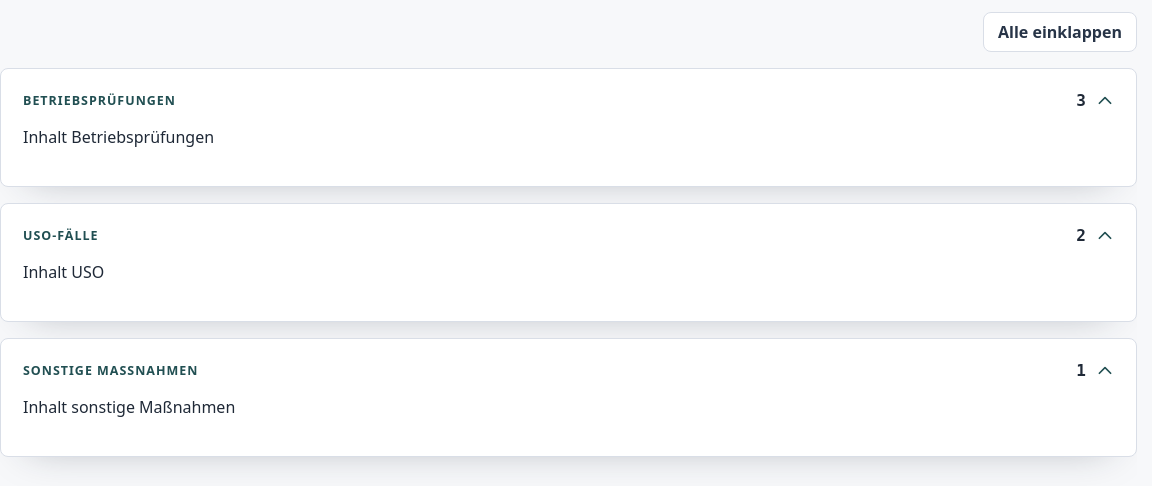
Scenario: CollapsiblePointLists › collapses all lists and expands all lists from closed and mixed states
Click the button "Alle einklappen" at (1060, 32), box 983,12 -> 1137,52
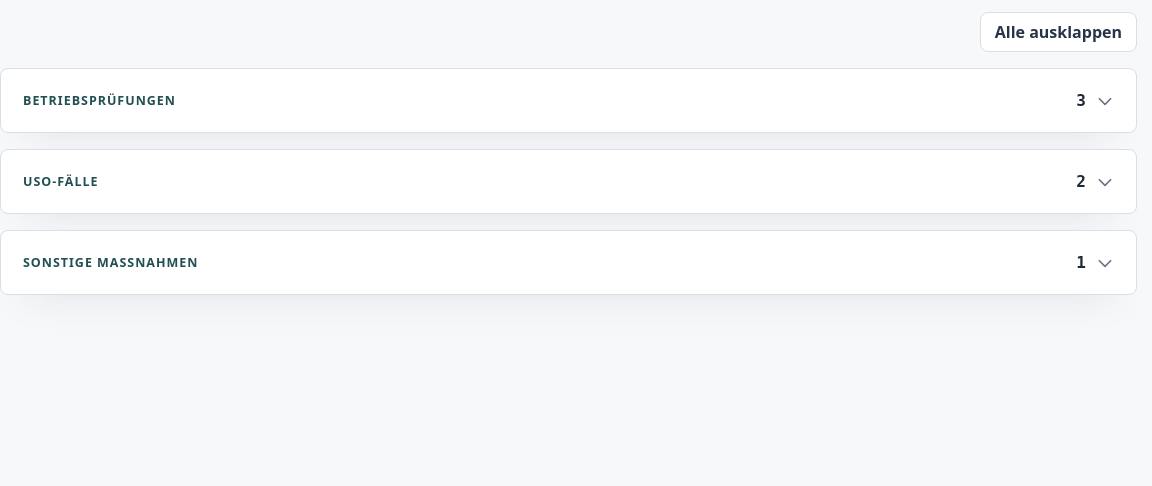
Click the button with aria-label "Betriebsprüfungen ausklappen" at (99, 100), box 23,91 -> 1114,110
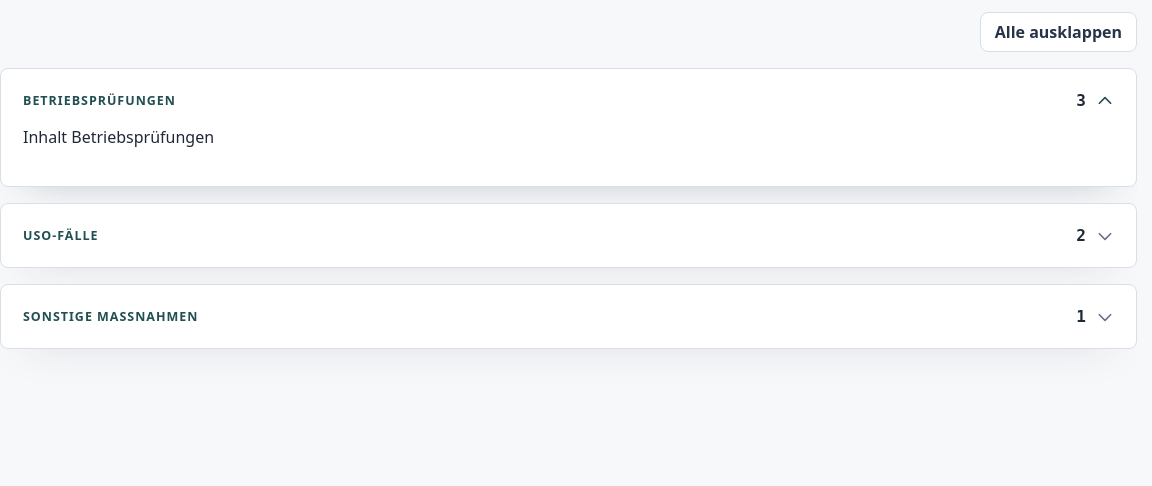
Expected: the button "Alle ausklappen" is shown
Expected: the button with aria-label "USO-Fälle ausklappen" is collapsed, 23,226 -> 1114,245
Expected: the button with aria-label "Betriebsprüfungen einklappen" is expanded, 23,91 -> 1114,110
Click the button "Alle ausklappen" at (1058, 32), box 980,12 -> 1137,52
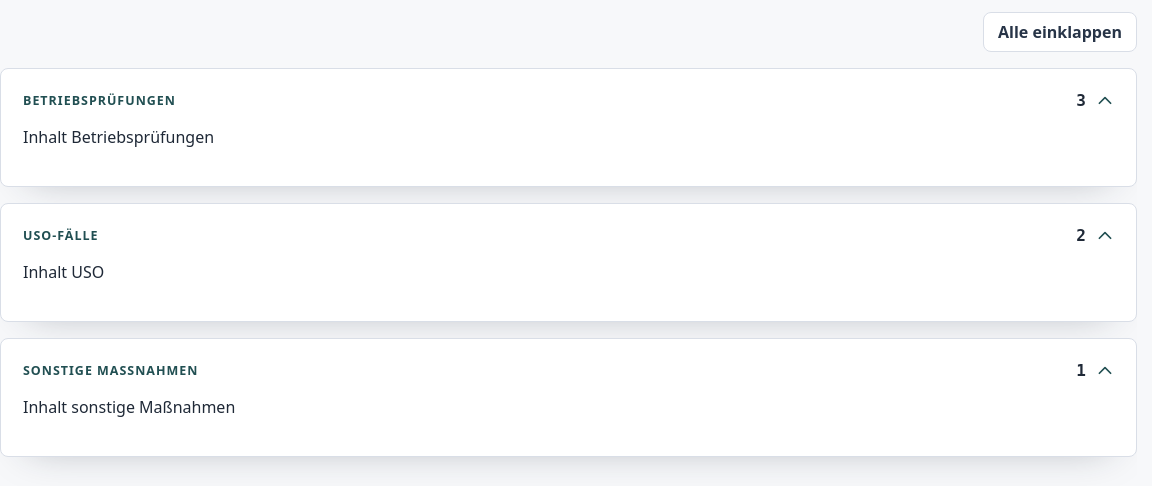
Expected: the number of buttons "Alle einklappen" is 4, 983,12 -> 1137,52; 23,91 -> 1114,110; 23,226 -> 1114,245; 23,361 -> 1114,380
Expected: the button "Alle einklappen" is shown, 983,12 -> 1137,52
